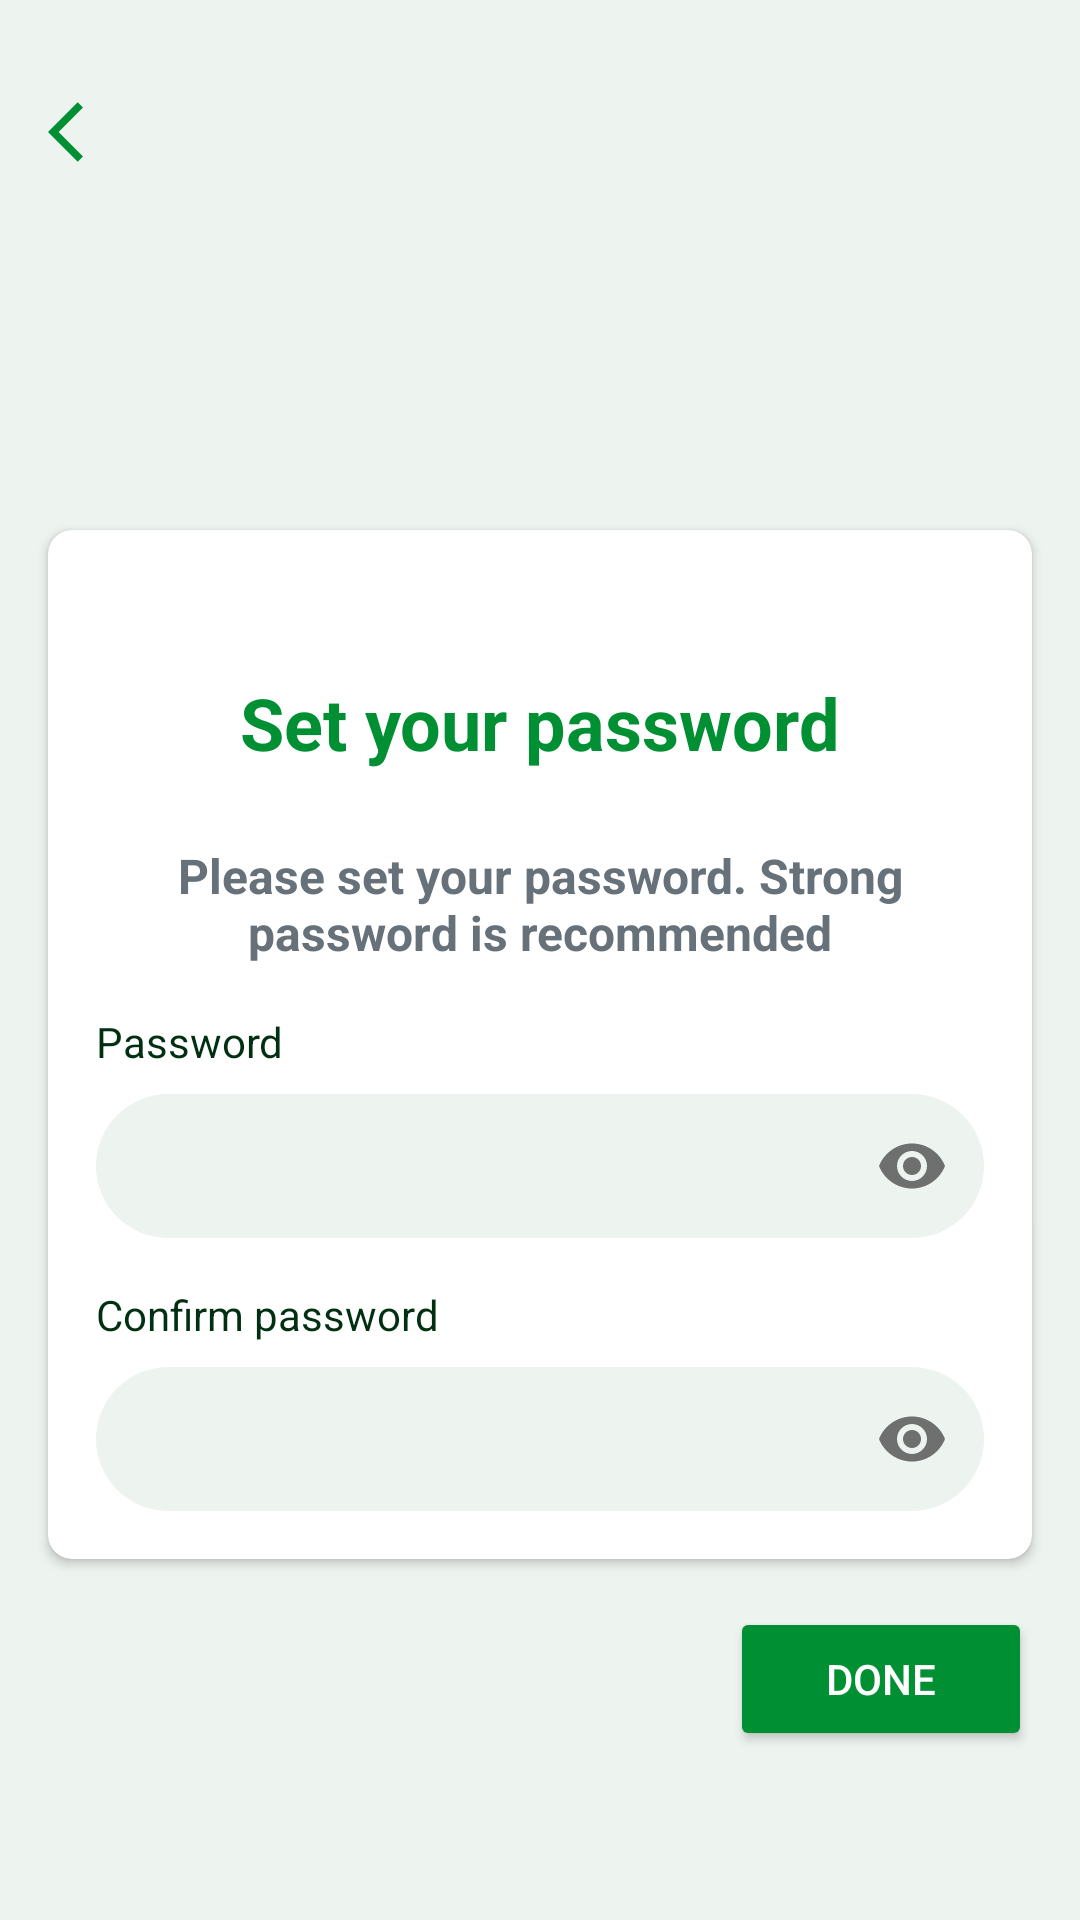

Locate icon controls on the screen. Image size 1080px x 1920px, boxes as {"left": x1, "top": y1, "right": x2, "bottom": y2}.
arrow back: {"left": 48, "top": 102, "right": 83, "bottom": 162}
